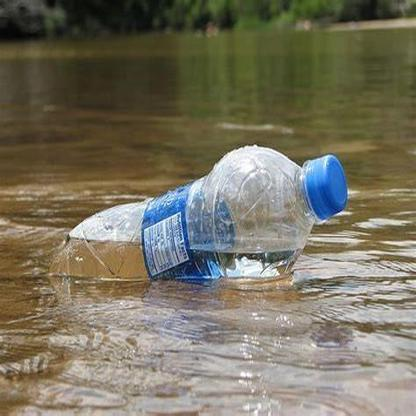plastic bottle: (67, 145, 347, 255)
